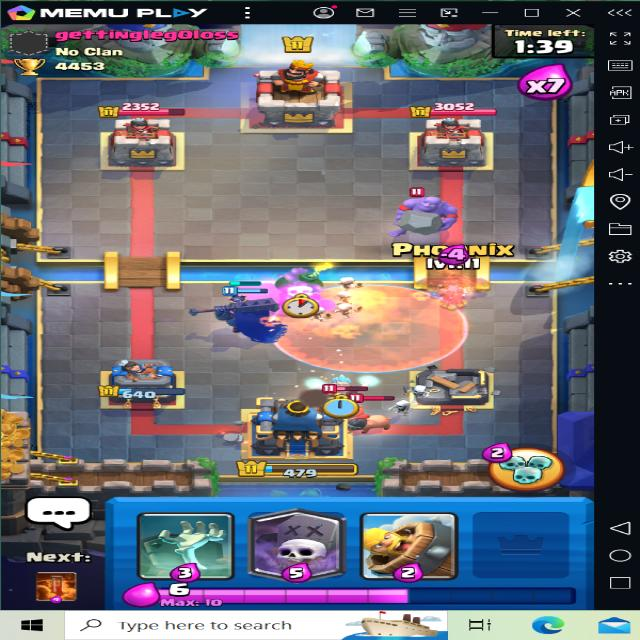Bowler: (387, 188, 460, 240)
Royalhogs: (345, 410, 400, 431)
